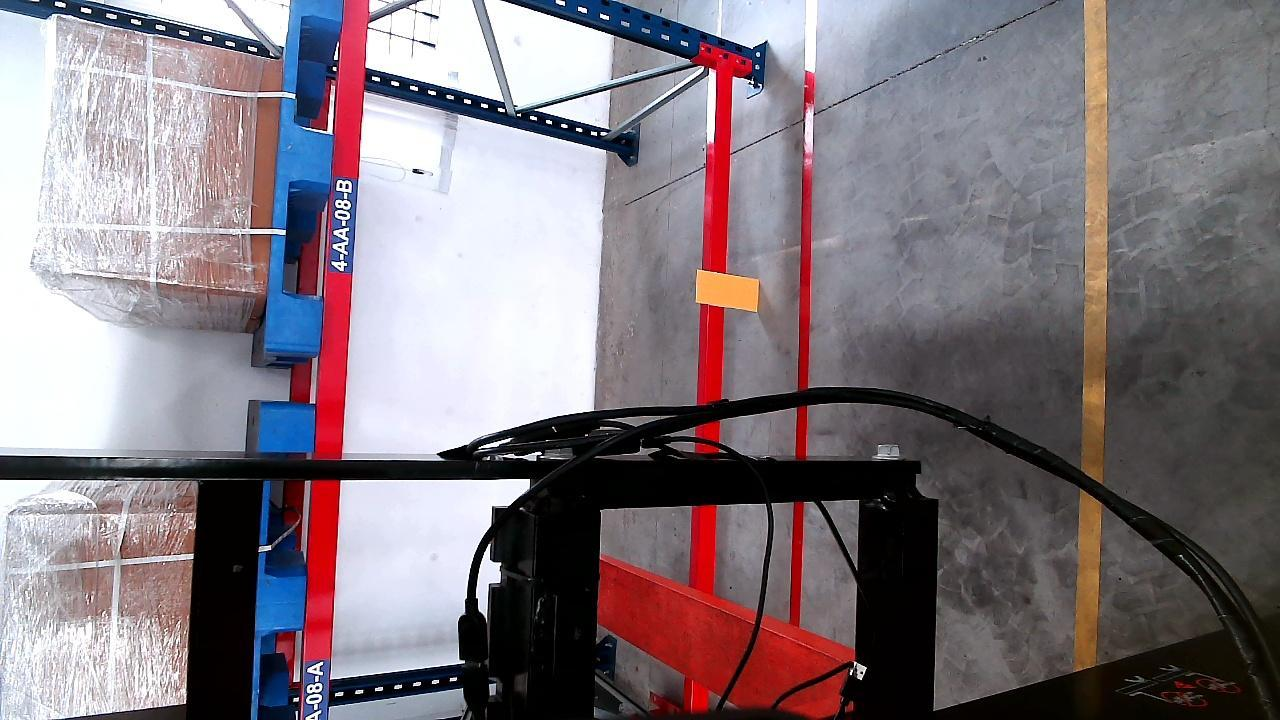red_line: (790, 3, 820, 626)
yellow_line: (1078, 0, 1107, 672)
